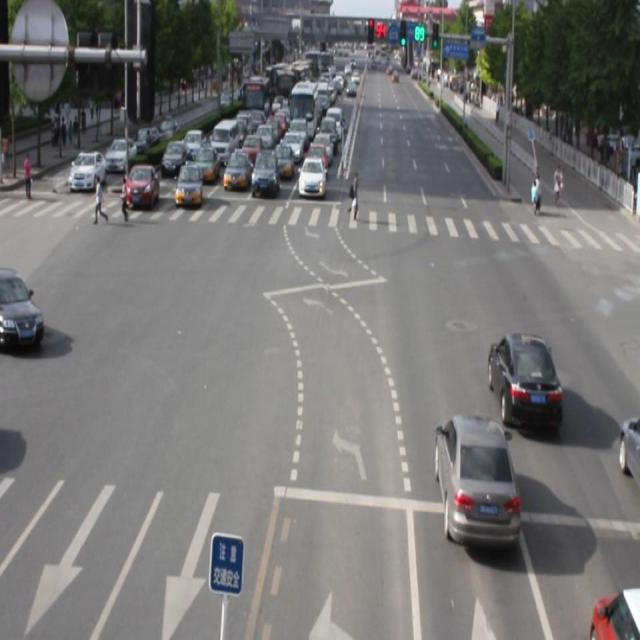car: (434, 413, 518, 546), (487, 332, 562, 427), (586, 585, 640, 639), (619, 416, 640, 492)
